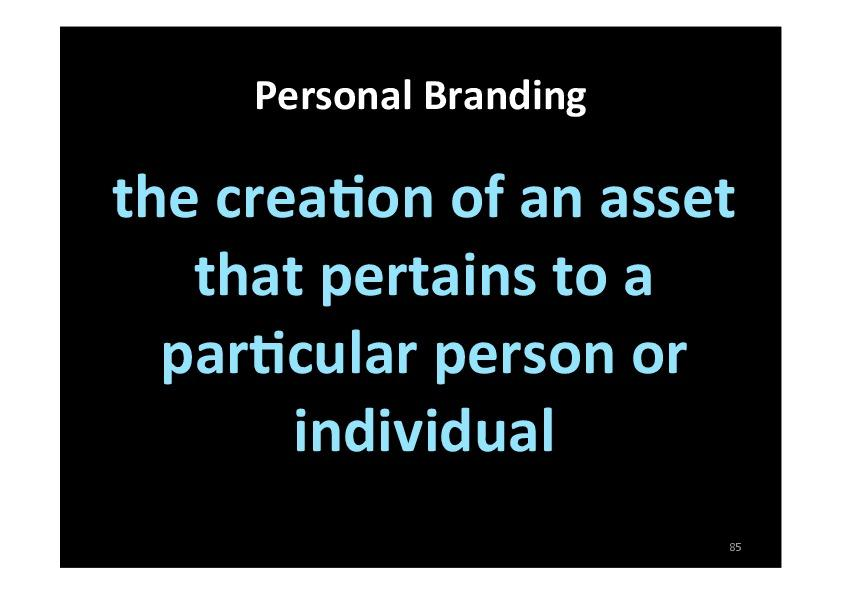paragraph: (107, 146, 753, 477)
title: (248, 70, 596, 124)
